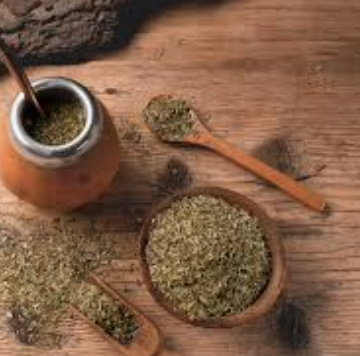calabaza: (1, 70, 123, 213)
mate: (1, 68, 129, 214)
